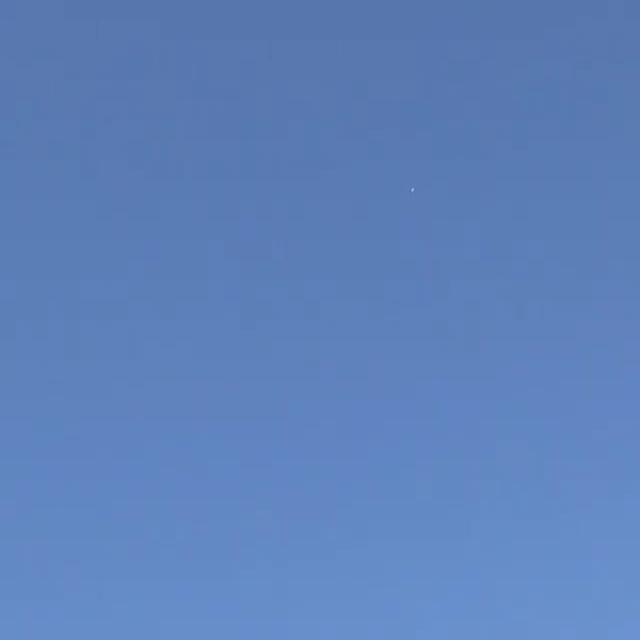AirPlane: (402, 178, 425, 202)
